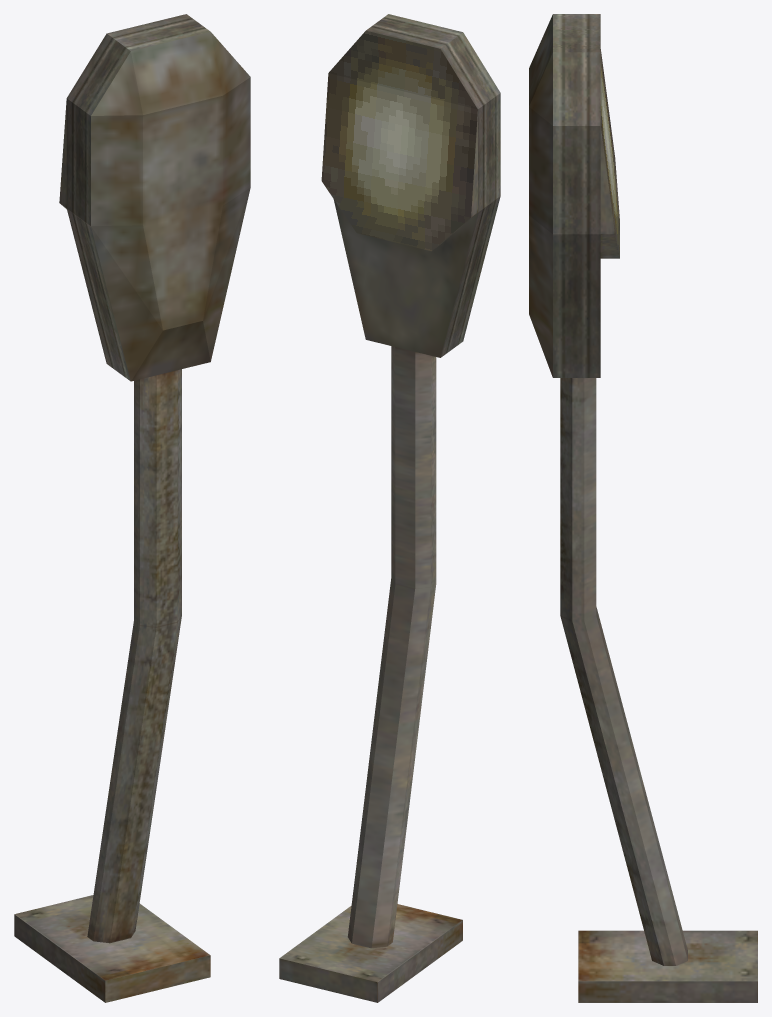
File: hanging_light.fbx
The picture shows the model from 3 angles, left to right: view 1: azimuth 30°, elevation 25°; view 2: azimuth 150°, elevation 25°; view 3: azimuth 270°, elevation 25°; orthographic projection. The views are drawn at different scales.
Visible parts, largest first — view 1: mesh_0; view 2: mesh_0, mesh_1; view 3: mesh_0, mesh_1.
Part boxes in pixels (left/top/right/bottom): mesh_0: left=14, top=14, right=250, bottom=1002; mesh_0: left=279, top=14, right=500, bottom=1002; mesh_1: left=321, top=30, right=477, bottom=251; mesh_0: left=529, top=14, right=757, bottom=1002; mesh_1: left=600, top=49, right=619, bottom=257.
Size of the model in its own units: 30.37 by 174 by 38.23.
2 materials, 2 textured.
